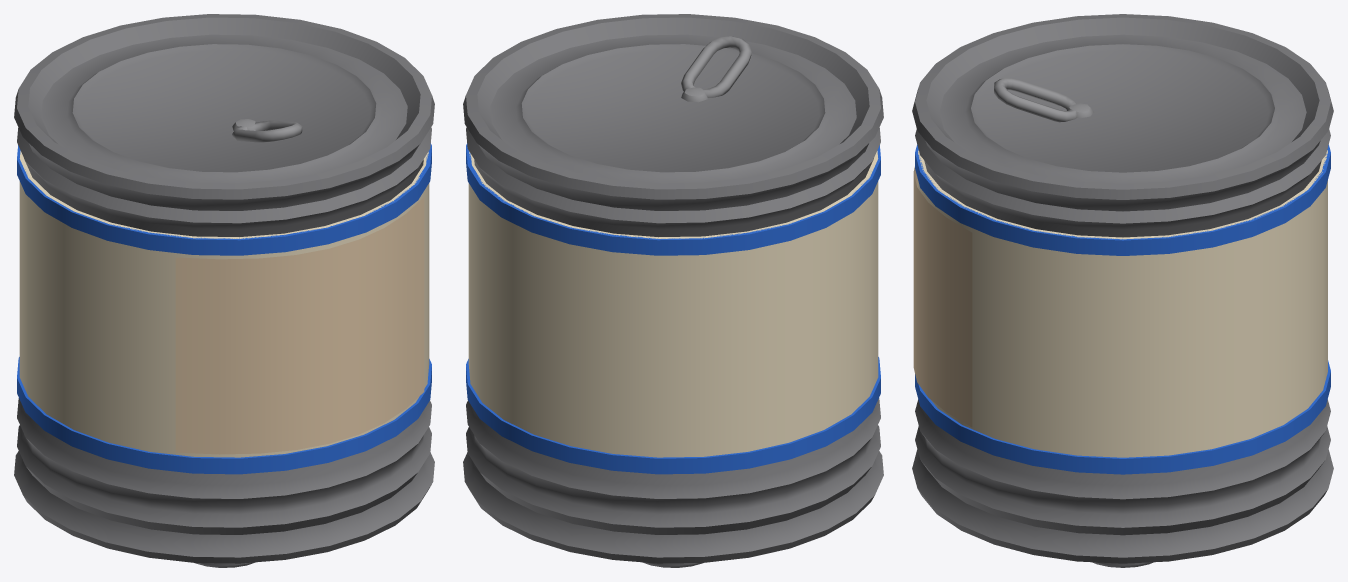
Rendered from Kit_Head_Can.glb.
3 views of the same model, side by side, from view 1: azimuth 30°, elevation 25°; view 2: azimuth 150°, elevation 25°; view 3: azimuth 270°, elevation 25° (orthographic).
Visible parts, largest first — view 1: Kit_Head_Can, FacePlate; view 2: Kit_Head_Can; view 3: Kit_Head_Can, FacePlate.
Boxes of the visible parts, x1,y1,x2,y2 form: Kit_Head_Can: (14, 14, 434, 567); FacePlate: (175, 197, 424, 454); Kit_Head_Can: (463, 14, 883, 567); Kit_Head_Can: (912, 14, 1333, 567); FacePlate: (913, 167, 972, 427).
Bounding box in the file's own units: 0.294 × 0.3589 × 0.294.
